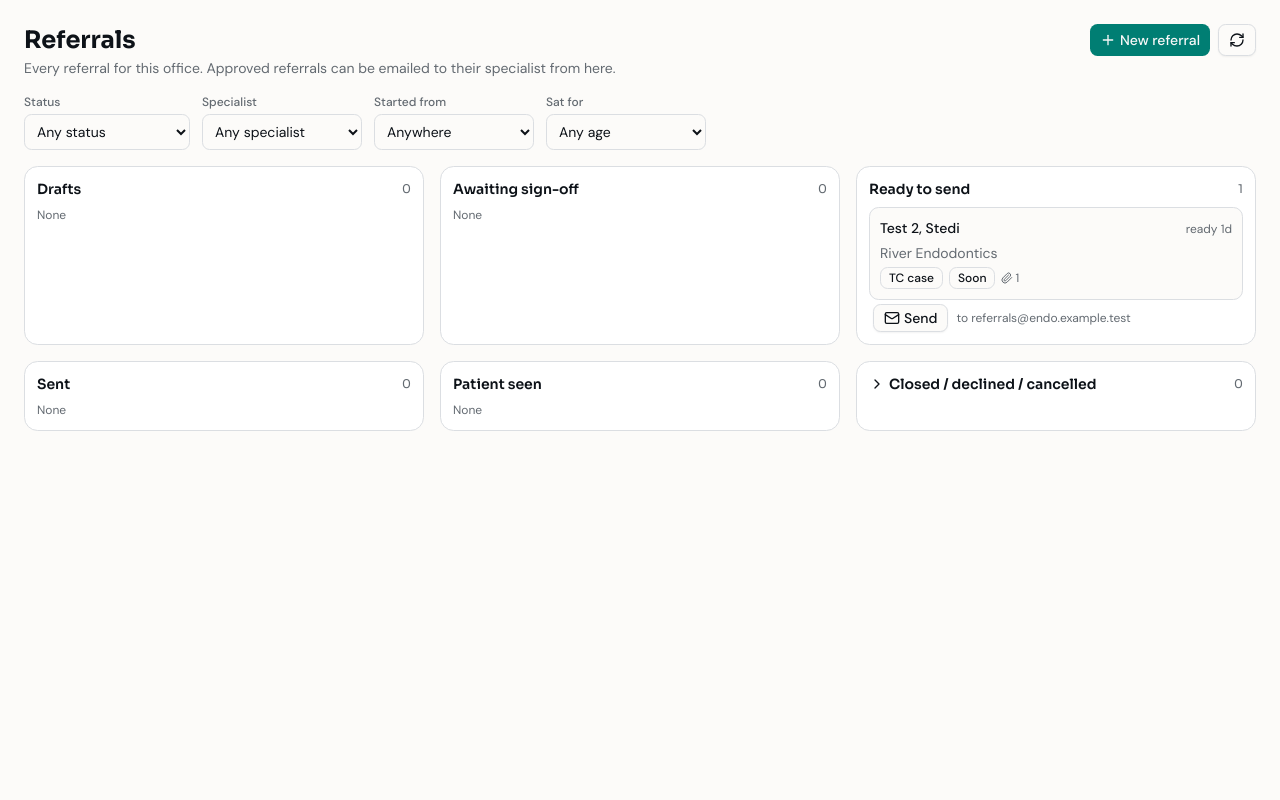
Scenario: the detail panel › names the recipient; Send shows the server's referral once it says sent
Click the button with test id "tc-hub-card" at (920, 228), box x1=869 y1=207 x2=1243 y2=300
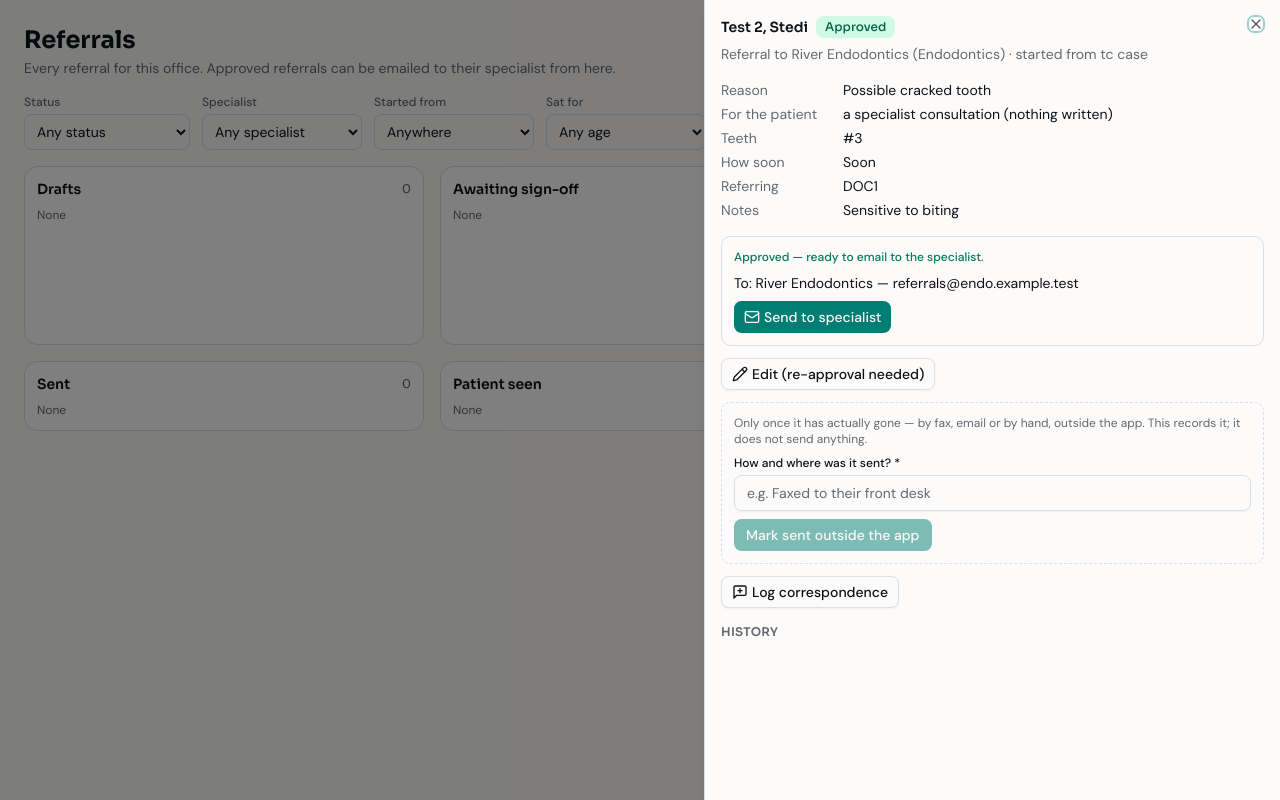
Result: the element with test id "tc-hub-send" shows "Approved — ready to email to the specialist." at x1=734 y1=249 x2=984 y2=265
Click the button with test id "tc-hub-send-button" at (813, 317), box x1=734 y1=301 x2=892 y2=333
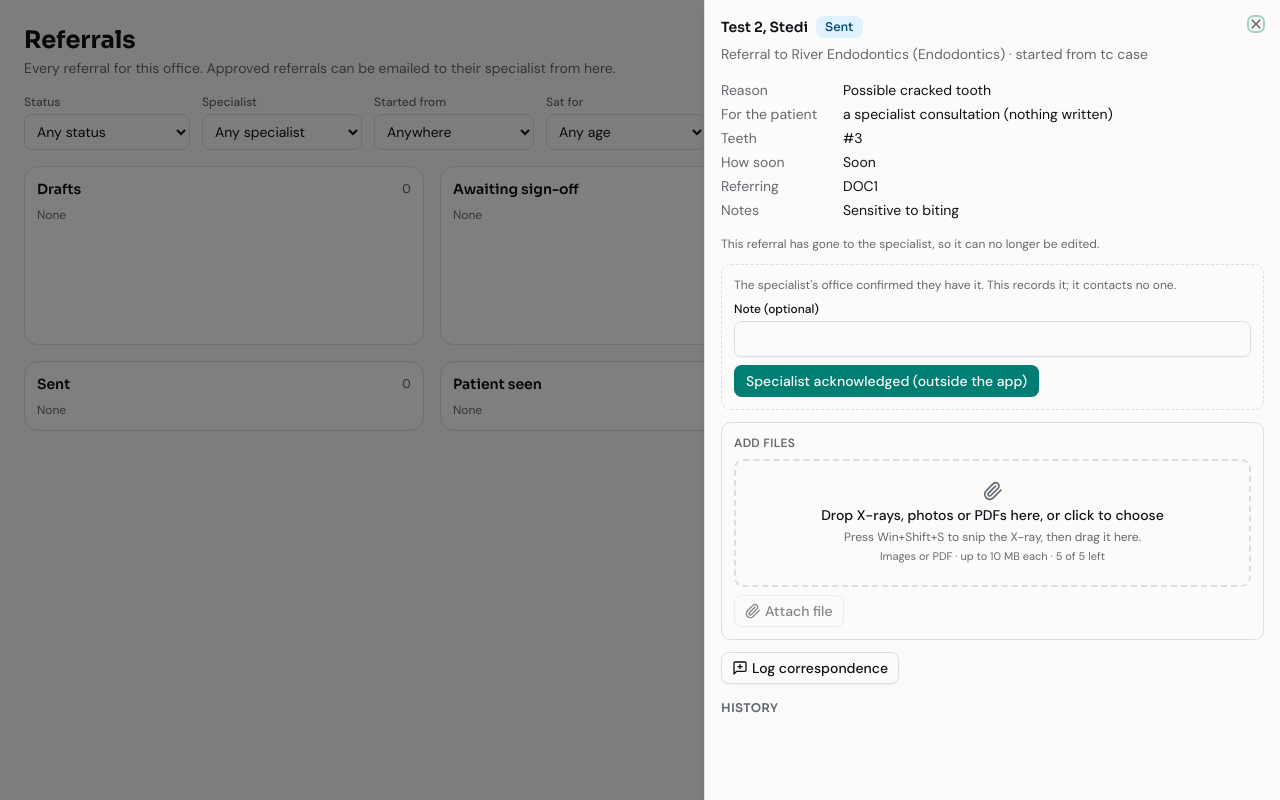
Result: the element with test id "tc-hub-send" is gone
Result: the text "Sent" is shown at x1=816 y1=16 x2=862 y2=38
